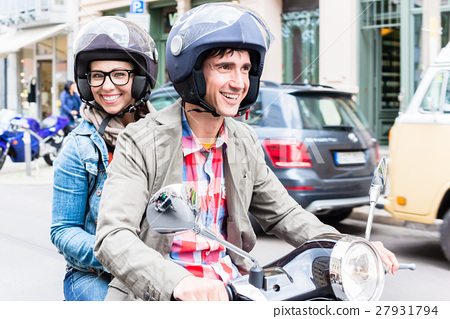helmet: (63, 17, 165, 88), (162, 10, 269, 77)
